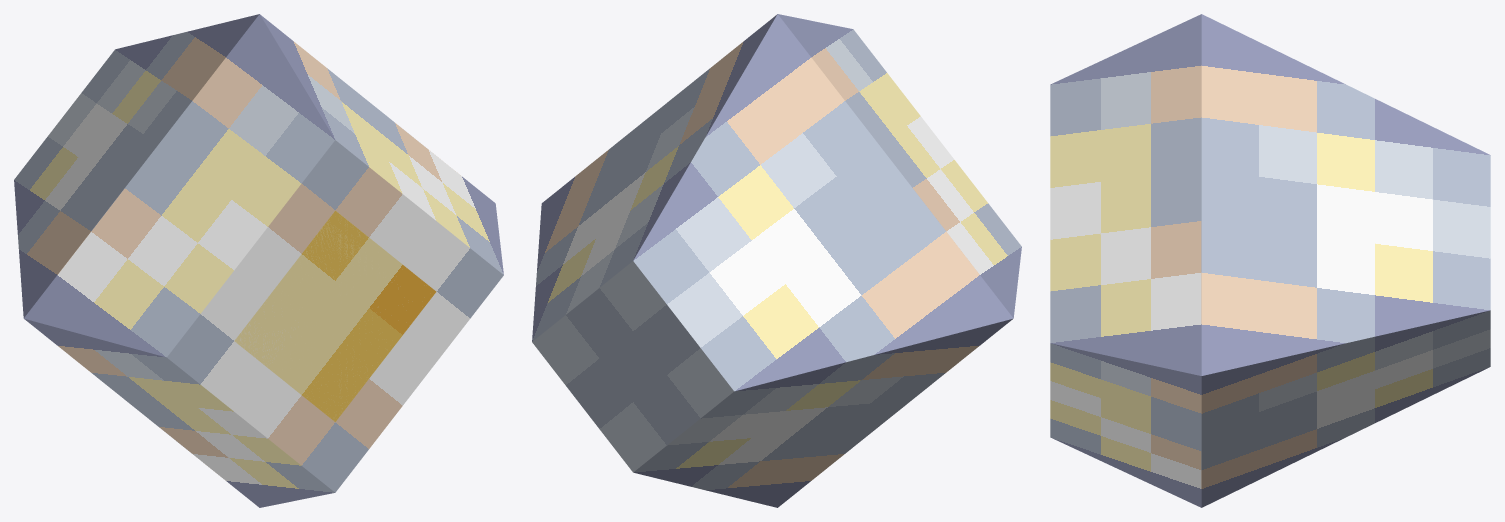
File: fire_rocket.obj
3 views of the same model, side by side, from view 1: azimuth 30°, elevation 25°; view 2: azimuth 150°, elevation 25°; view 3: azimuth 270°, elevation 25° (orthographic).
Parts seen in each view (by area): view 1: fire_rocket; view 2: fire_rocket; view 3: fire_rocket.
Boxes of the visible parts, <box> form: fire_rocket: <box>14,14,503,507</box>; fire_rocket: <box>532,14,1021,507</box>; fire_rocket: <box>1050,14,1490,507</box>.
Bounding box in the file's own units: 0.221 × 0.221 × 0.1786.
